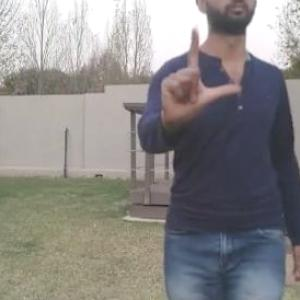land_hand: (156, 21, 247, 129)
